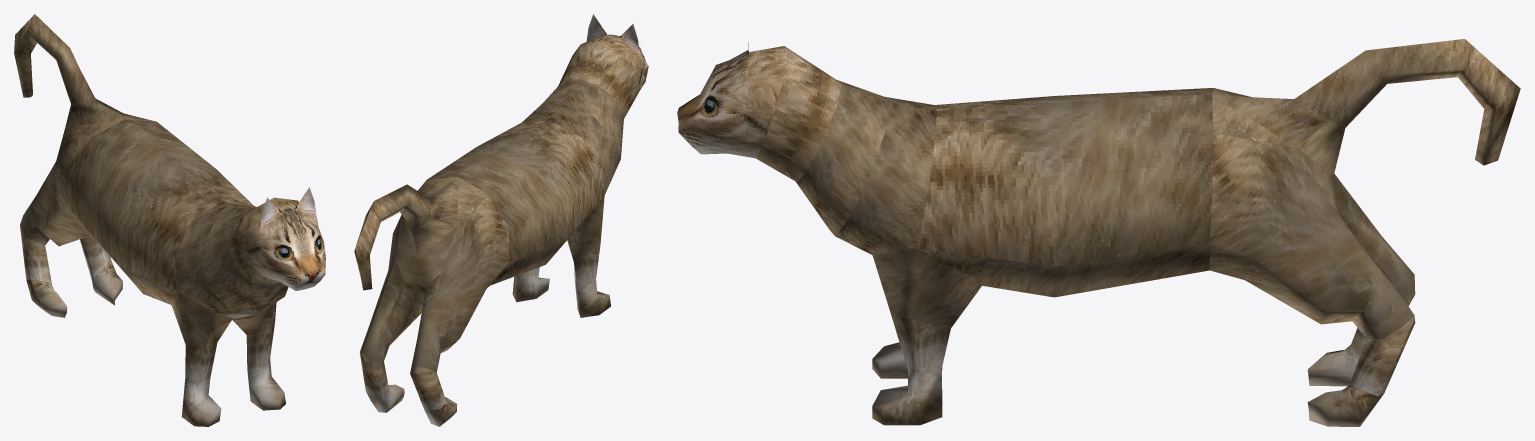
The model's file is tabbyCat.glb.
The picture shows the model from 3 angles, left to right: view 1: azimuth 30°, elevation 25°; view 2: azimuth 150°, elevation 25°; view 3: azimuth 270°, elevation 25°; orthographic projection. The views are drawn at different scales.
Parts seen in each view (by area): view 1: Object_7; view 2: Object_7; view 3: Object_7.
Boxes of the visible parts, x1=… form: Object_7: x1=14, y1=14, x2=325, y2=426; Object_7: x1=354, y1=14, x2=648, y2=426; Object_7: x1=677, y1=39, x2=1520, y2=426.
Bounding box in the file's own units: 0.1114 × 0.237 × 0.4812.
Materials: 1 (1 with a texture image).
